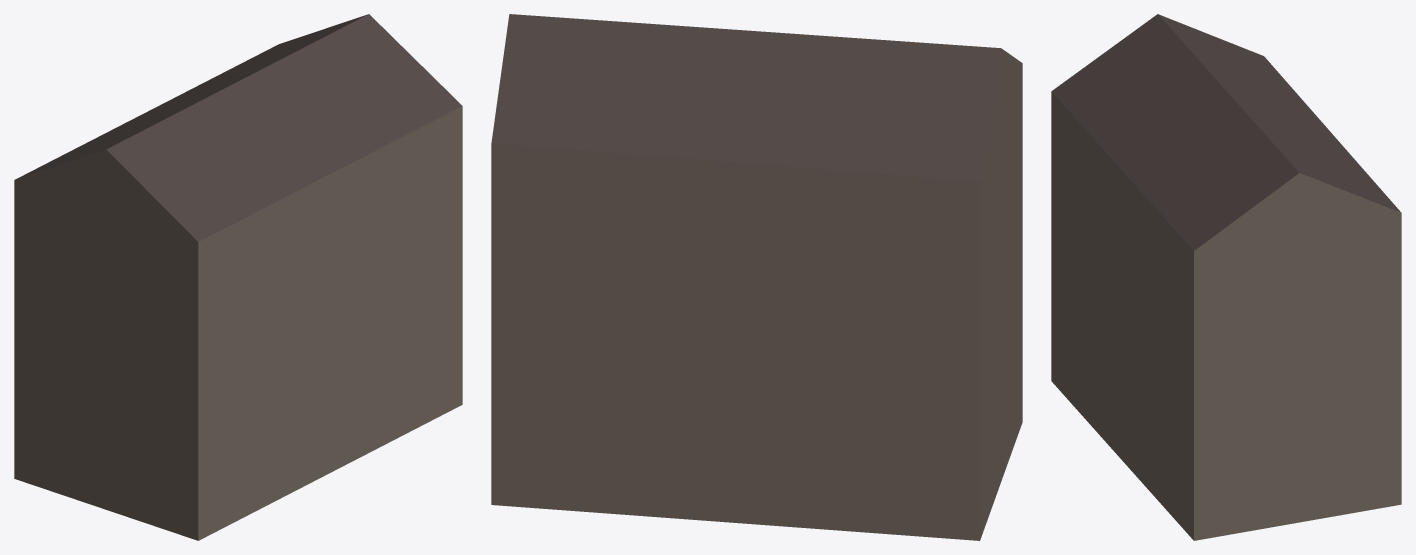
3 renders of one model, left to right at view 1: azimuth 30°, elevation 25°; view 2: azimuth 150°, elevation 25°; view 3: azimuth 270°, elevation 25°, orthographic. The views are drawn at different scales.
Visible parts, largest first — view 1: HP-w505643608; view 2: HP-w505643608; view 3: HP-w505643608.
Part boxes in pixels (bbox=[...]): HP-w505643608: bbox=[14, 14, 462, 540]; HP-w505643608: bbox=[491, 14, 1022, 540]; HP-w505643608: bbox=[1051, 14, 1401, 540].
Size of the model in its own units: 12.99 by 10.86 by 9.86.
